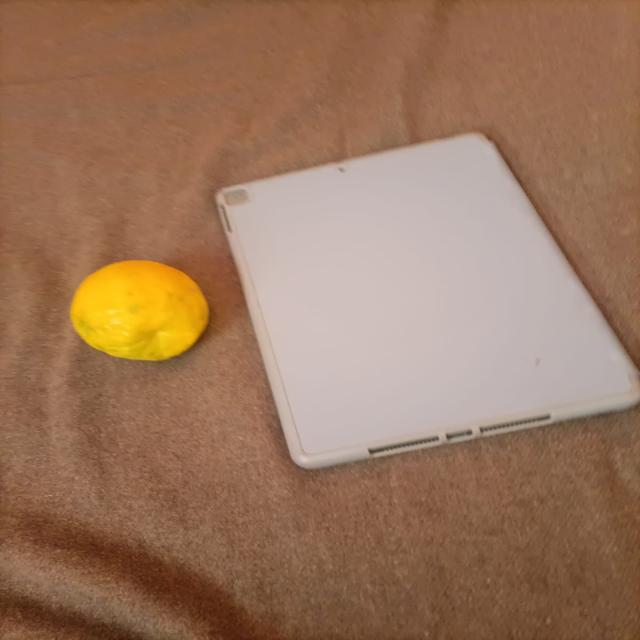orange: (49, 254, 231, 374)
tablet: (96, 5, 640, 499)
